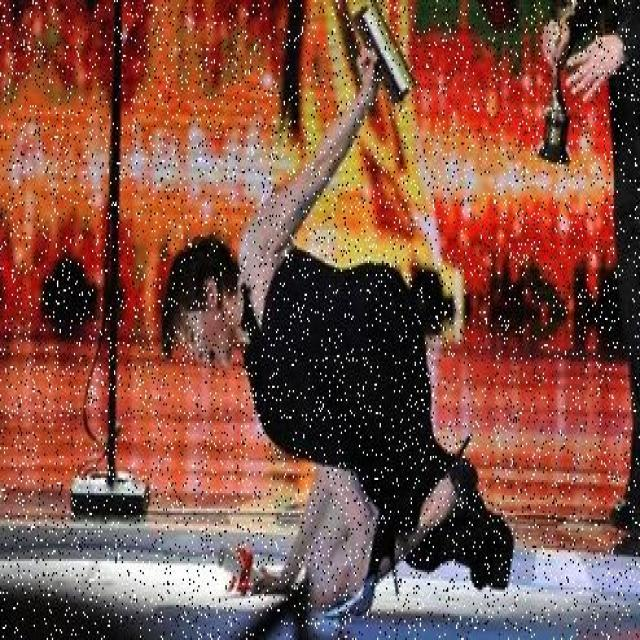fall: (156, 182, 506, 598)
